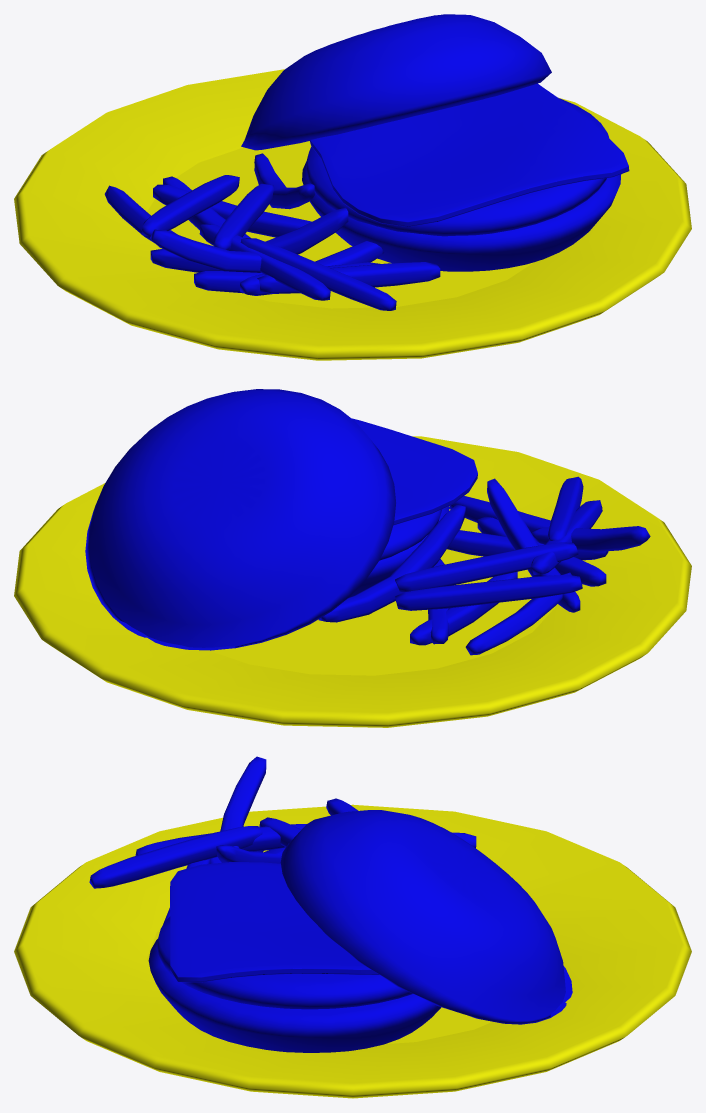
File: KitchenFries6.fbx
3 views of the same model, one above another, from view 1: azimuth 30°, elevation 25°; view 2: azimuth 150°, elevation 25°; view 3: azimuth 270°, elevation 25° (orthographic).
Visible parts, largest first — view 1: Fries6; view 2: Fries6; view 3: Fries6.
Part boxes in pixels (<box>): Fries6: <box>14,14,691,360</box>; Fries6: <box>14,389,691,727</box>; Fries6: <box>14,756,691,1098</box>.
Size of the model in its own units: 28.26 by 9.25 by 28.26.
